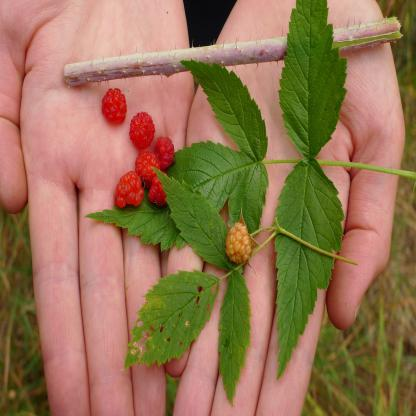Raspberry leaf: (81, 138, 256, 254), (267, 157, 347, 380), (278, 0, 348, 156), (182, 56, 270, 165), (241, 163, 272, 240)
